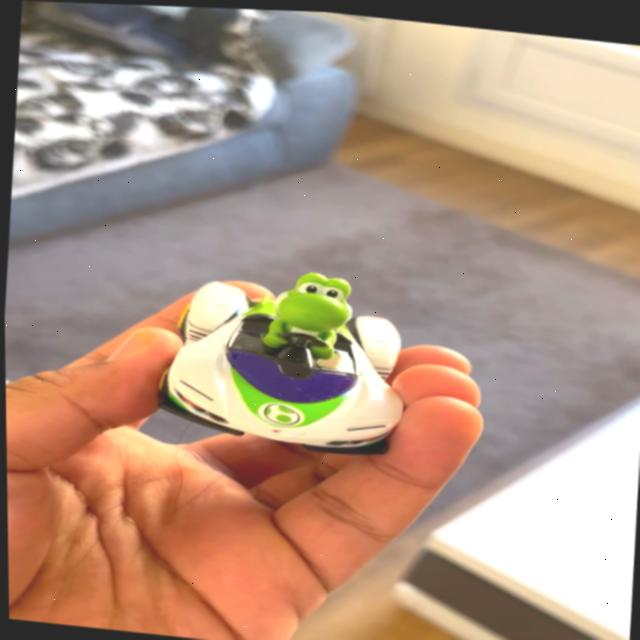yoshi: (141, 243, 433, 464)
